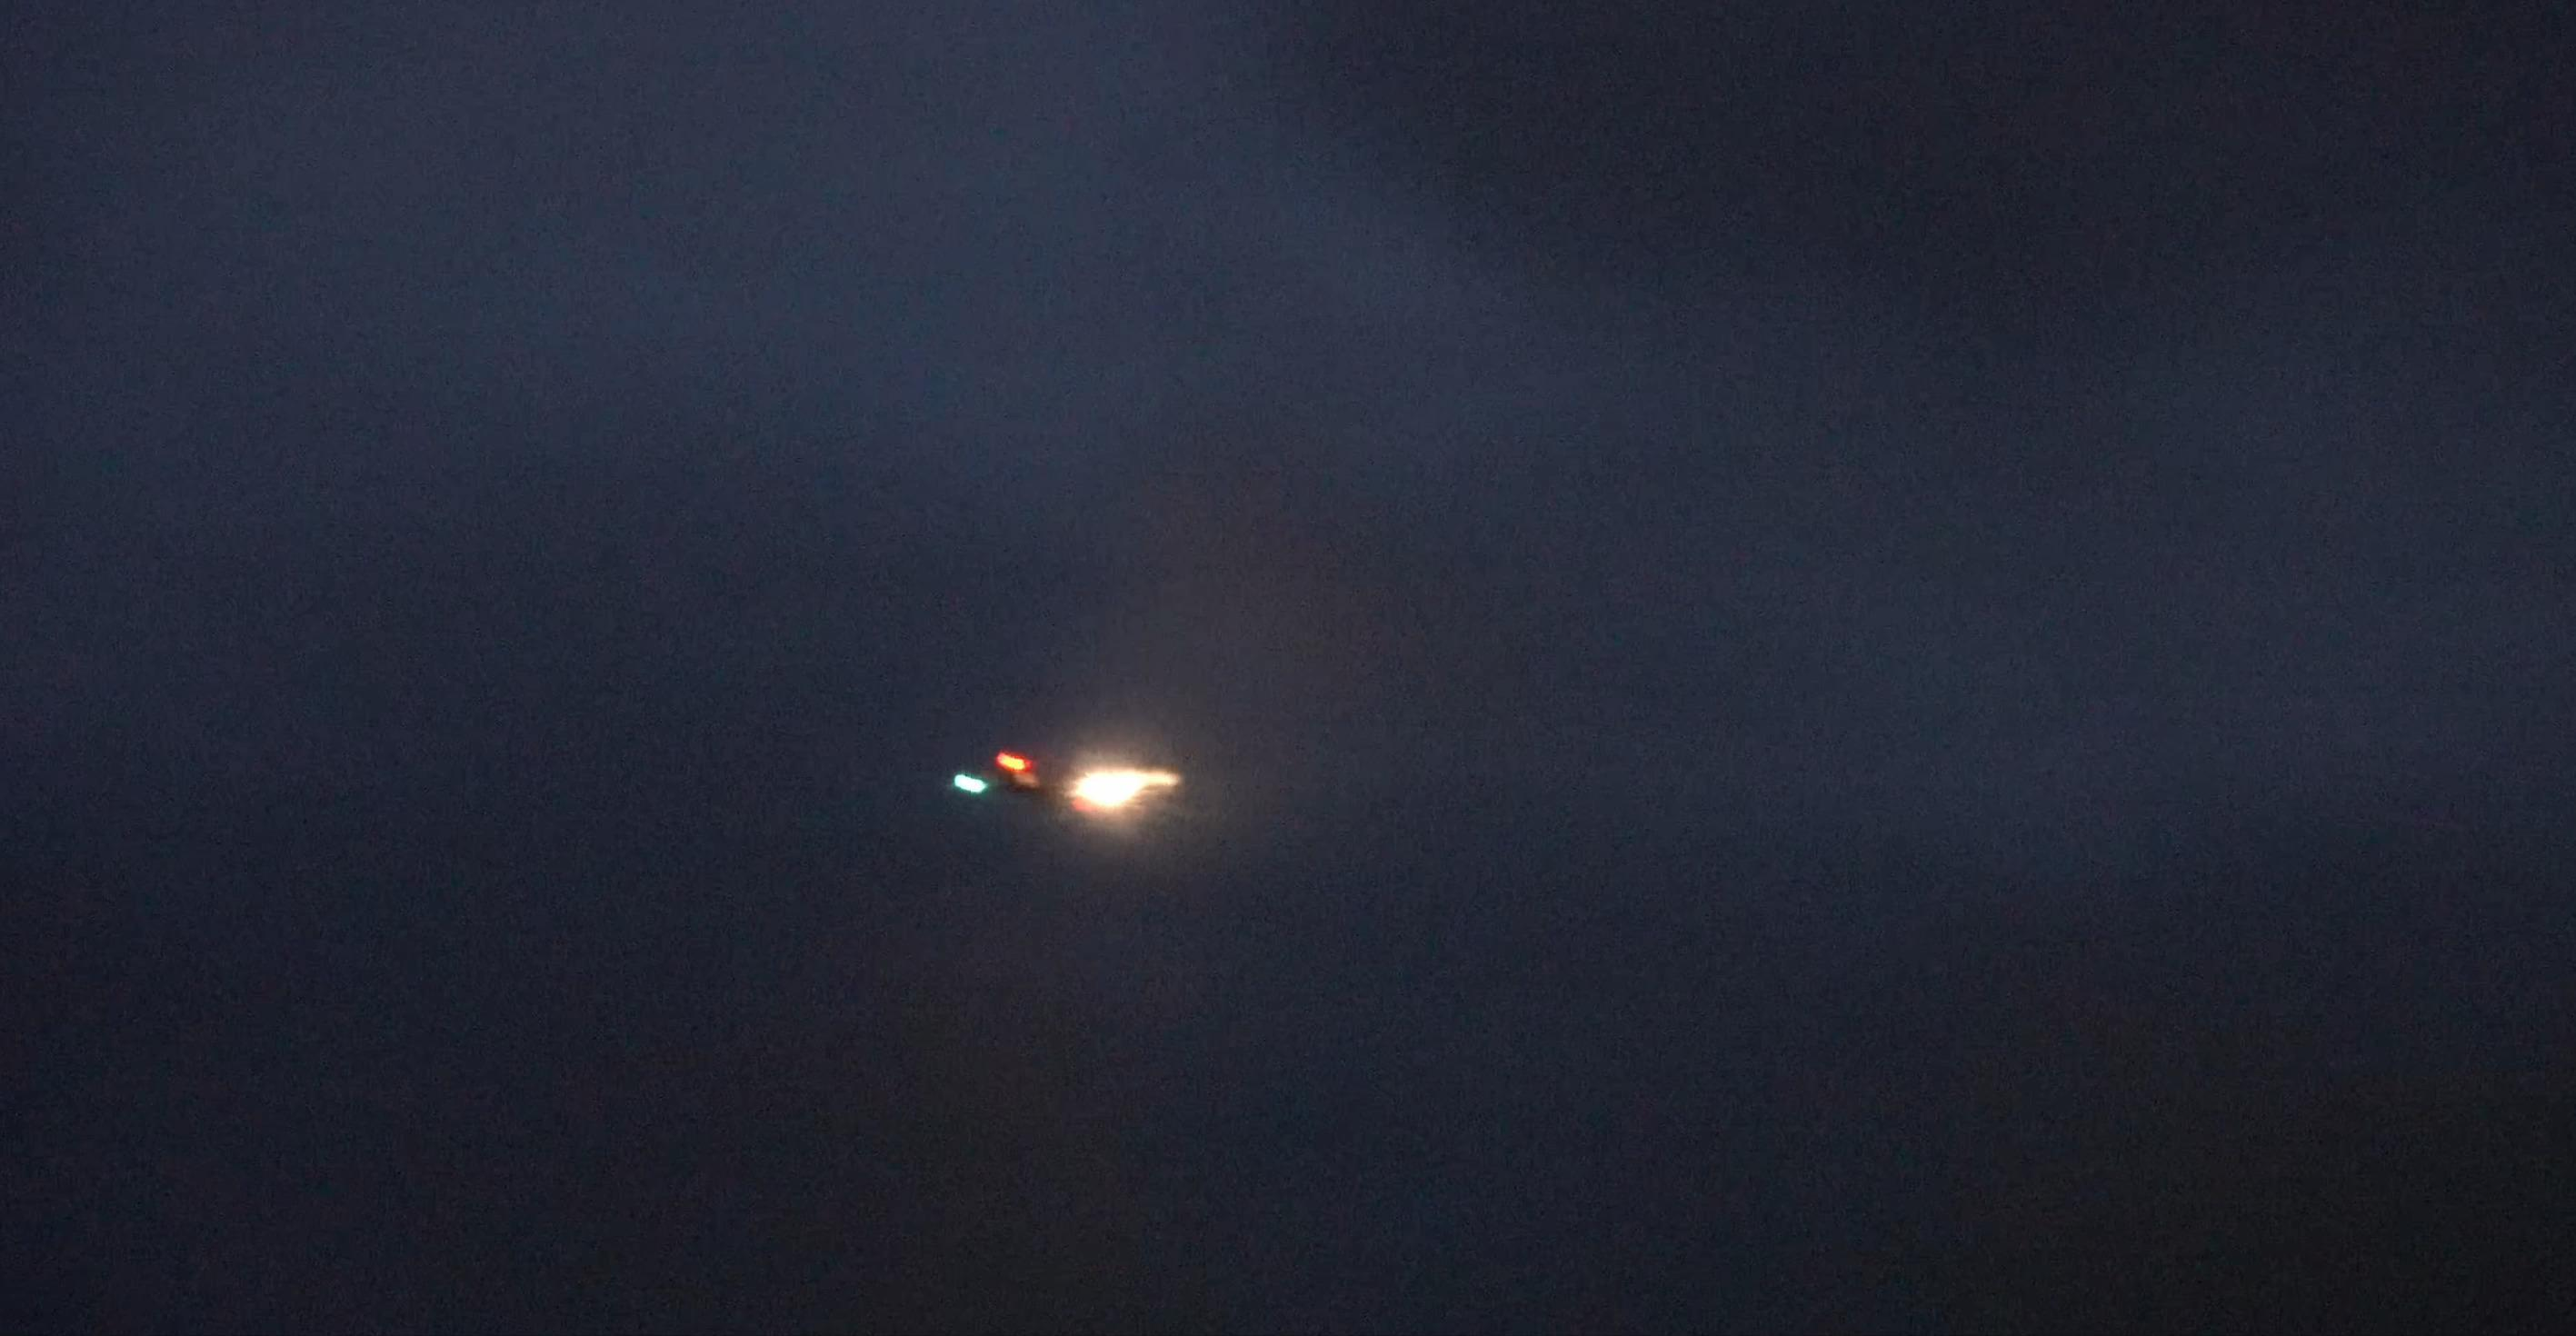Plane: (830, 673, 1332, 901)
